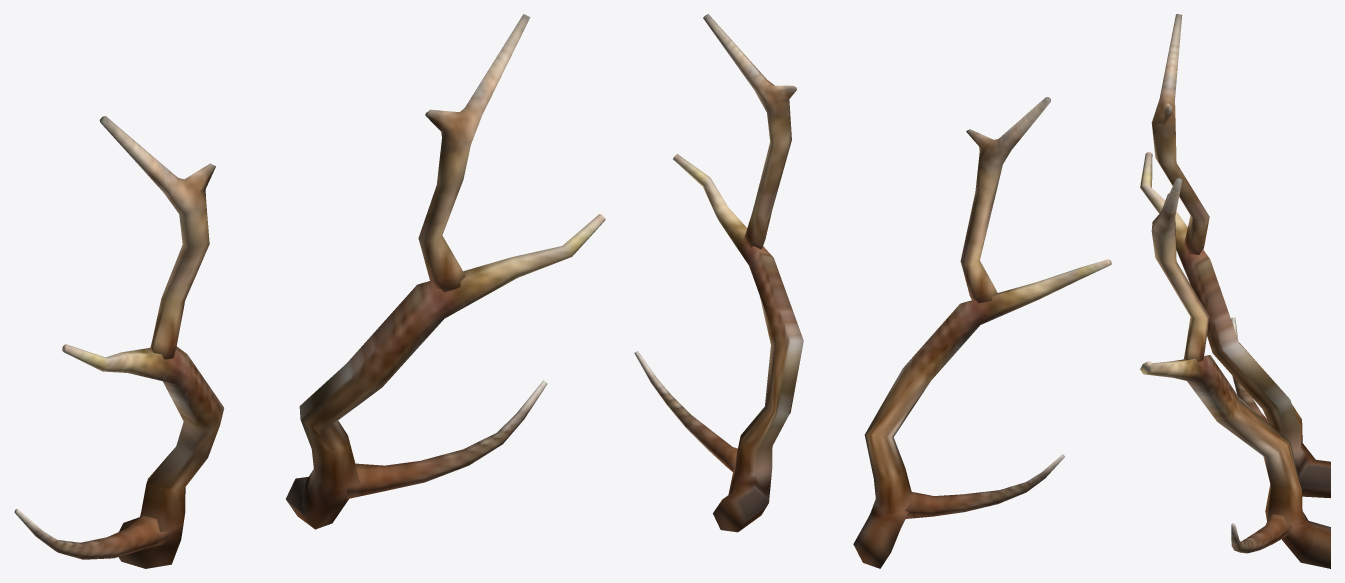
Rendered from antlers_2.FBX.
3 views of the same model, side by side, from view 1: azimuth 30°, elevation 25°; view 2: azimuth 150°, elevation 25°; view 3: azimuth 270°, elevation 25° (orthographic). The views are drawn at different scales.
Visible parts, largest first — view 1: antlers_2; view 2: antlers_2; view 3: antlers_2.
Part boxes in pixels (x1,y1,x2,y2): antlers_2: (14, 14, 605, 568); antlers_2: (634, 14, 1111, 568); antlers_2: (1140, 14, 1330, 568).
Size of the model in its own units: 55.23 by 52.78 by 21.02.
